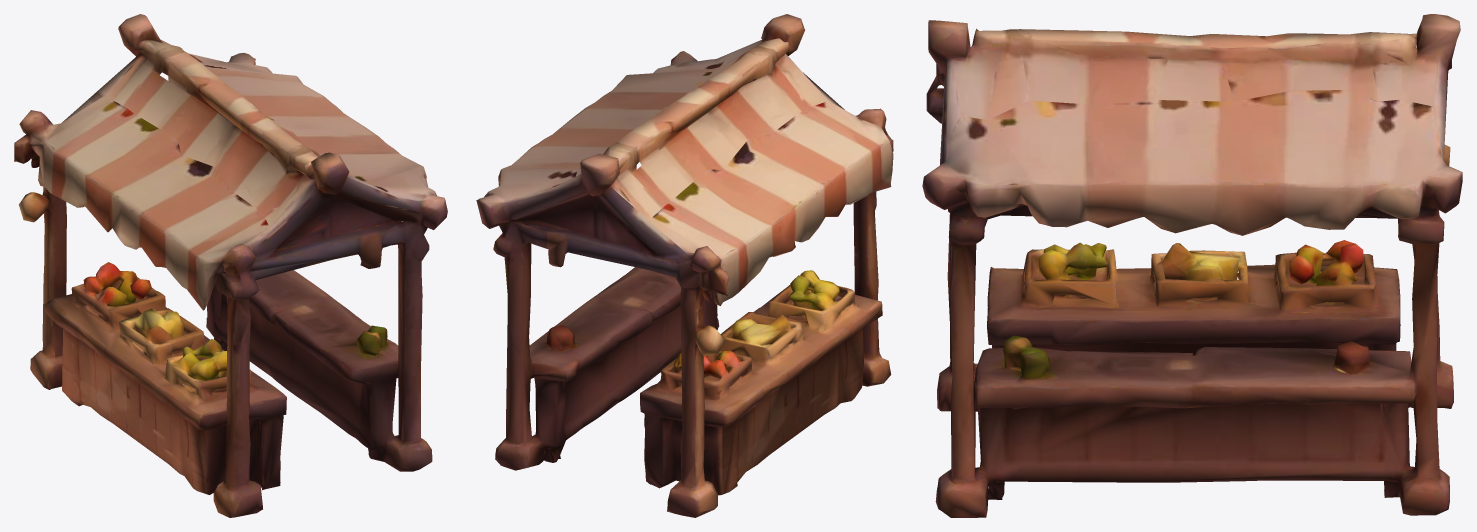
Rendered from stall.glb.
3 views of the same model, side by side, from view 1: azimuth 30°, elevation 25°; view 2: azimuth 150°, elevation 25°; view 3: azimuth 270°, elevation 25° (orthographic). The views are drawn at different scales.
Visible parts, largest first — view 1: tripo_node_b34d81b9; view 2: tripo_node_b34d81b9; view 3: tripo_node_b34d81b9.
Boxes of the visible parts, bbox=[...] form: tripo_node_b34d81b9: bbox=[14, 14, 447, 517]; tripo_node_b34d81b9: bbox=[476, 14, 893, 517]; tripo_node_b34d81b9: bbox=[922, 14, 1462, 517].
Bounding box in the file's own units: 71.27 × 88.18 × 99.1.
1 material, 1 textured.
